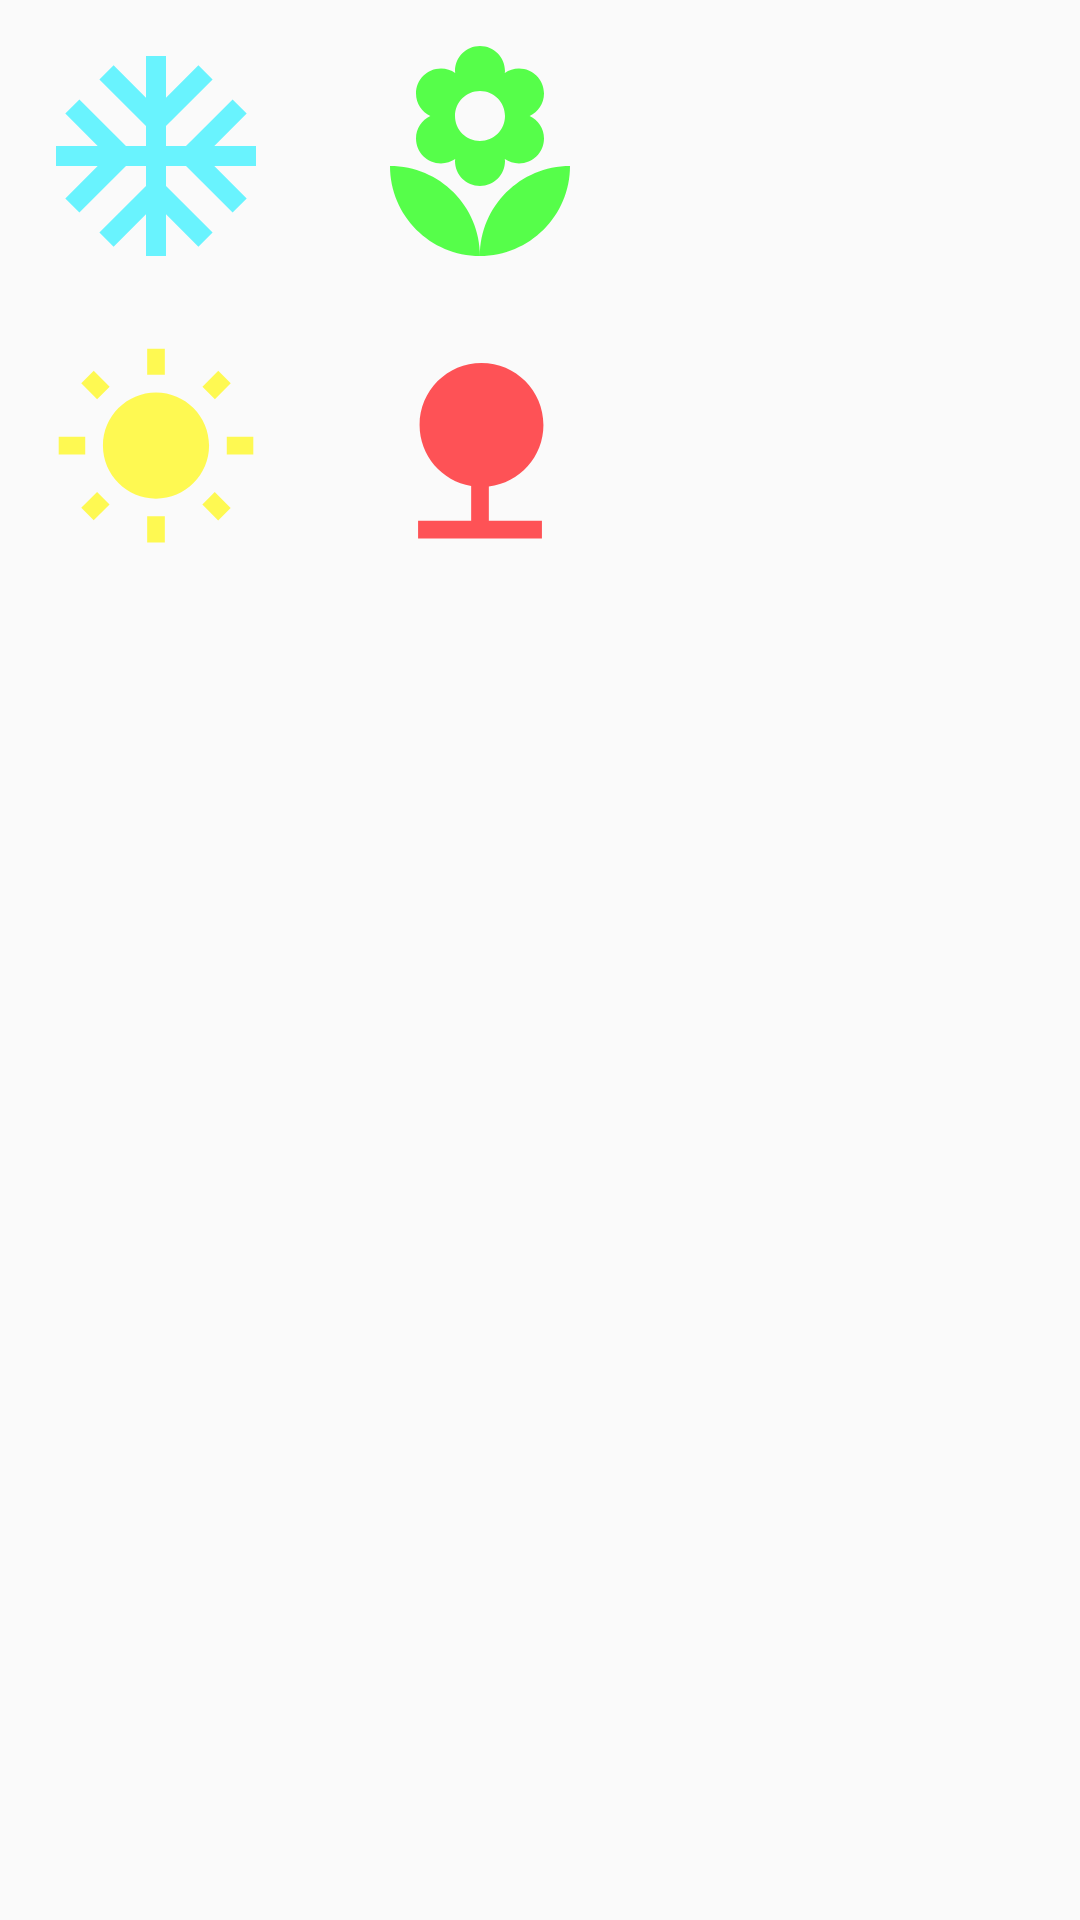

Icon bounding boxes for this 1080*1920 phone screenshot, format (x1=x1, y1=y1, x2=x2, y2=y2):
automne: (x1=418, y1=363, x2=544, y2=539)
hiver: (x1=56, y1=56, x2=256, y2=256)
printemps: (x1=390, y1=46, x2=570, y2=256)
summer: (x1=58, y1=348, x2=254, y2=543)
